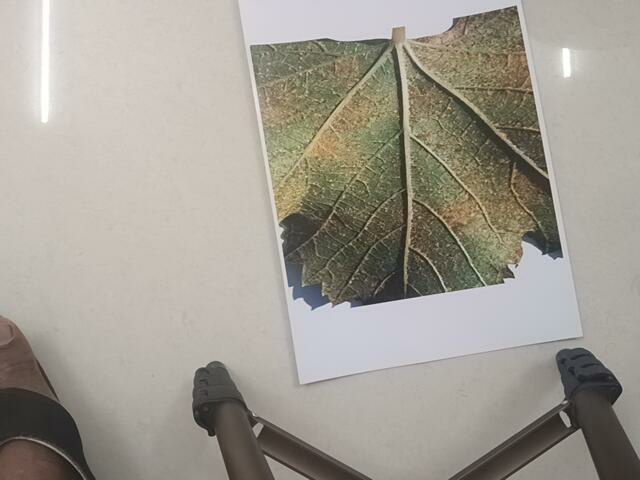Grape_Rust_Fungus: (245, 1, 575, 305)
